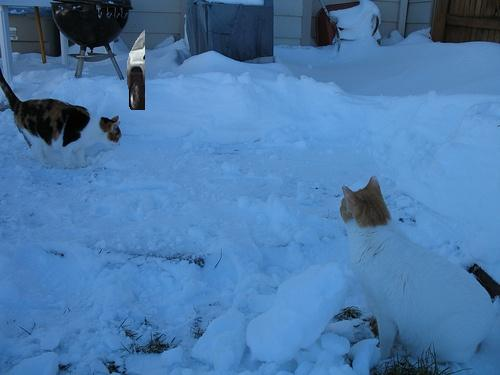tampered: (127, 29, 145, 110)
